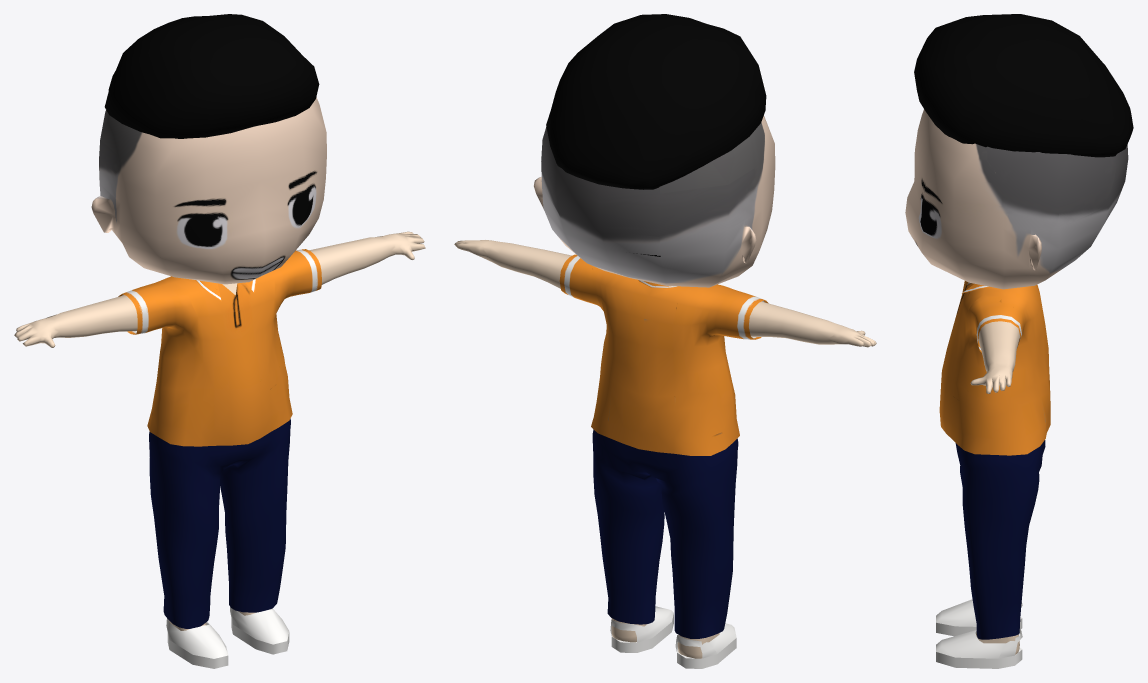
File: nguoii.fbx
3 renders of one model, left to right at view 1: azimuth 30°, elevation 25°; view 2: azimuth 150°, elevation 25°; view 3: azimuth 270°, elevation 25°, orthographic. The views are drawn at different scales.
Visible parts, largest first — view 1: Cube.001, Cube.004, Cube.005, Cube.003, Cube, Cylinder; view 2: Cube.003, Cube.004, Cube.001, Cube.005, Cube, Cylinder; view 3: Cube.001, Cube.003, Cube.004, Cube.005, Cylinder, Cube.
Part boxes in pixels (box(x1,y1,x2,y2)): Cube.001: box(91, 97, 326, 284); Cube.004: box(118, 249, 321, 446); Cube.005: box(149, 418, 290, 628); Cube.003: box(104, 14, 319, 138); Cube: box(14, 231, 425, 630); Cylinder: box(166, 607, 289, 668); Cube.003: box(546, 14, 766, 189); Cube.004: box(559, 254, 768, 455); Cube.001: box(533, 115, 775, 287); Cube.005: box(592, 429, 738, 638); Cube: box(454, 240, 876, 658); Cylinder: box(610, 606, 736, 668); Cube.001: box(905, 109, 1128, 289); Cube.003: box(914, 14, 1133, 157); Cube.004: box(939, 281, 1050, 455); Cube.005: box(955, 440, 1045, 639); Cylinder: box(936, 599, 1022, 668); Cube: box(967, 282, 1020, 654).
Bounding box in the file's own units: 296 × 423 × 142.
